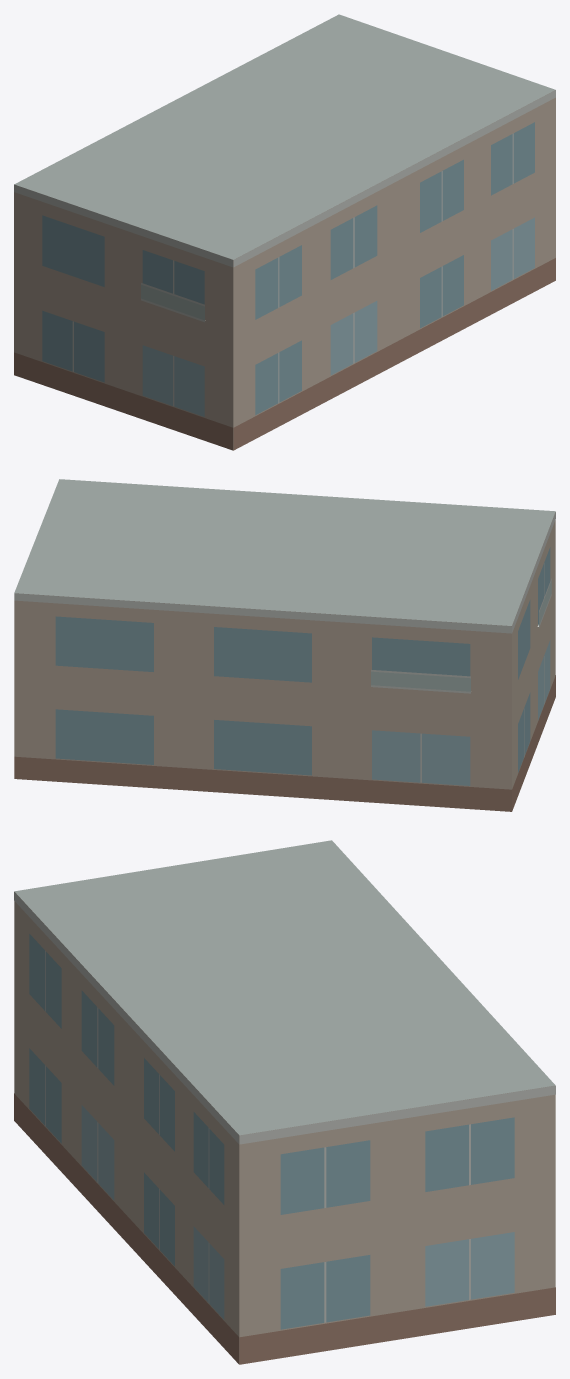
Rendered from survey-upis-32945502.glb.
3 renders of one model, top to bottom at view 1: azimuth 30°, elevation 25°; view 2: azimuth 150°, elevation 25°; view 3: azimuth 270°, elevation 25°, orthographic. The views are drawn at different scales.
Visible parts, largest first — view 1: survey-upis-32945502.tmp; view 2: survey-upis-32945502.tmp; view 3: survey-upis-32945502.tmp.
Part boxes in pixels (x1=…): survey-upis-32945502.tmp: x1=14, y1=14, x2=555, y2=450; survey-upis-32945502.tmp: x1=14, y1=479, x2=555, y2=811; survey-upis-32945502.tmp: x1=14, y1=840, x2=555, y2=1364.
Size of the model in its own units: 16.86 by 6.1 by 13.07.
